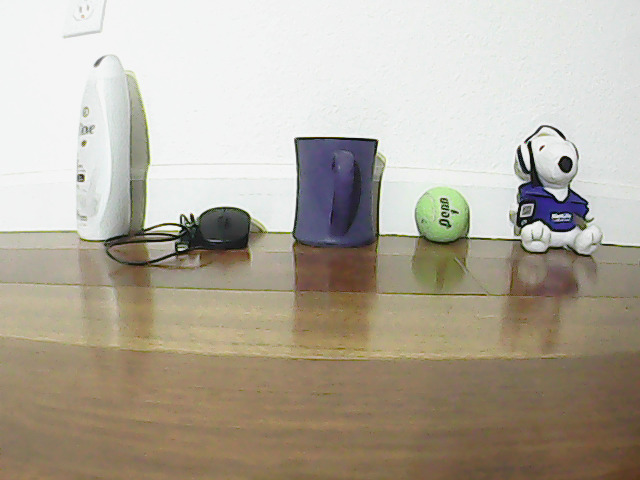ball: (409, 184, 476, 246)
mouse: (199, 196, 250, 250)
mug: (296, 130, 379, 249)
snoopy: (512, 121, 600, 259)
soap: (76, 49, 130, 238)
